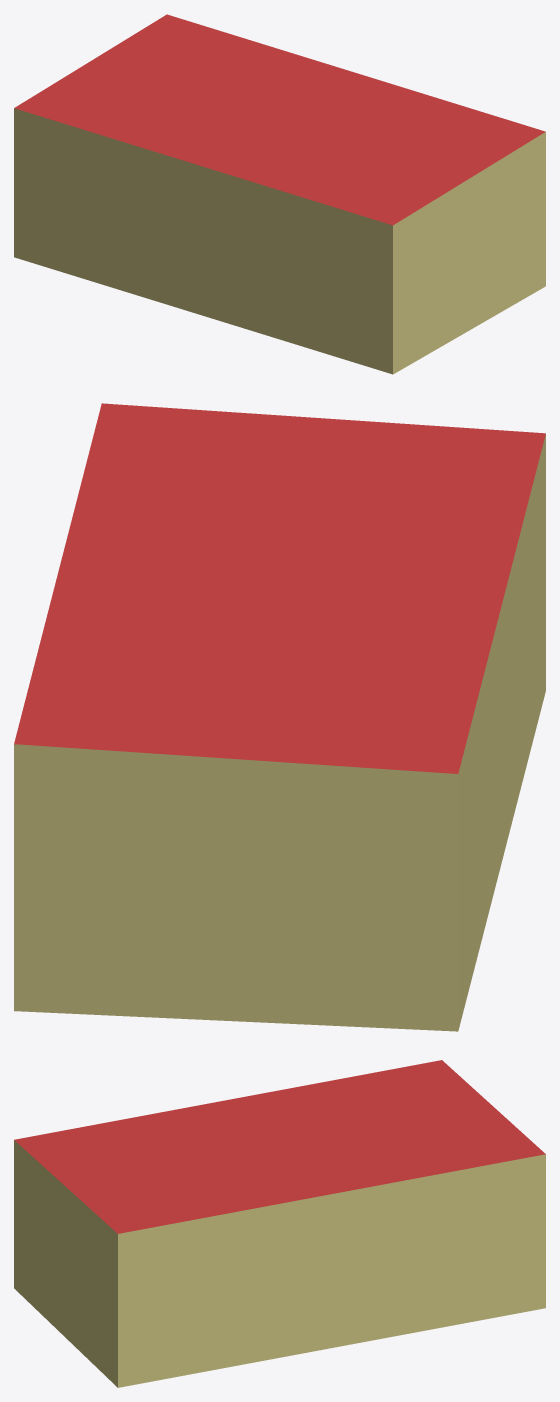
3 views of the same model, one above another, from view 1: azimuth 30°, elevation 25°; view 2: azimuth 150°, elevation 25°; view 3: azimuth 270°, elevation 25° (orthographic). The views are drawn at different scales.
Bounding box in the file's own units: 11.01 × 13.8 × 4.41.
